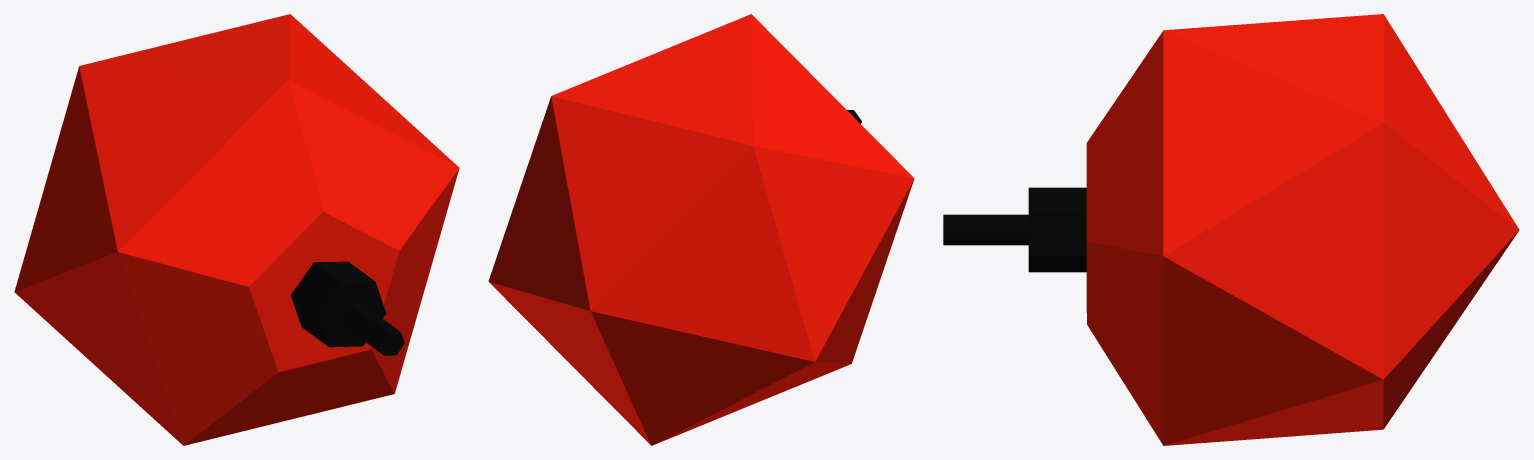
The model's file is shoot.fbx.
3 views of the same model, side by side, from view 1: azimuth 30°, elevation 25°; view 2: azimuth 150°, elevation 25°; view 3: azimuth 270°, elevation 25° (orthographic). The views are drawn at different scales.
Parts seen in each view (by area): view 1: bomber; view 2: bomber; view 3: bomber.
Part boxes in pixels (<box>): bomber: <box>14,14,459,445</box>; bomber: <box>488,14,914,445</box>; bomber: <box>943,14,1519,445</box>.
Size of the model in its own units: 170 by 179 by 234.
